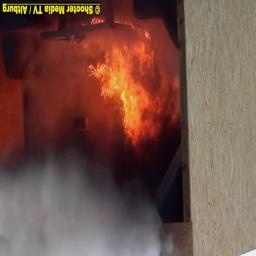fire: (83, 28, 179, 151)
